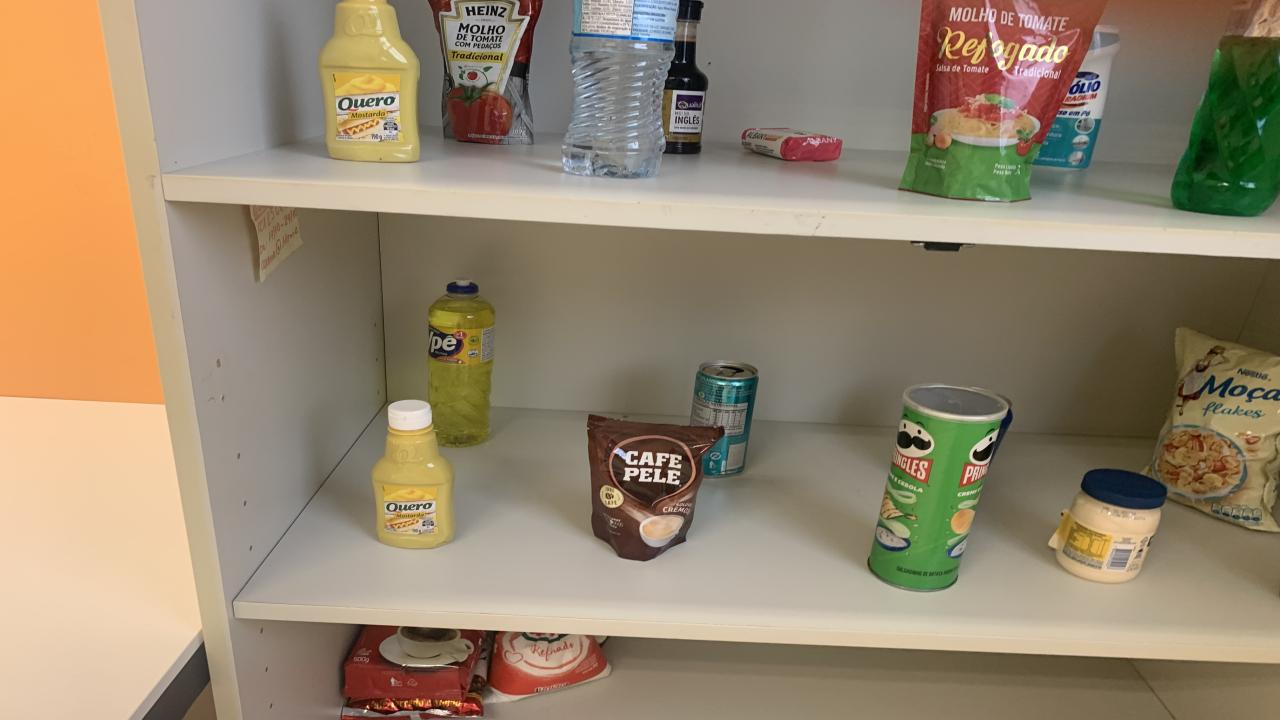Cleaner-Cleanup_Items: (1035, 26, 1120, 169)
Coffee-Pantry_Items: (588, 416, 722, 561)
Detergent-Cleanup_Items: (1170, 0, 1280, 216), (428, 281, 495, 446)
English_Sauce-Pantry_Items: (662, 0, 708, 154)
Flakes-Snacks: (1148, 328, 1280, 532)
Mayonnaise-Pantry_Items: (1050, 469, 1168, 583)
Mustard-Pantry_Items: (318, 0, 420, 161), (372, 399, 455, 548)
Pringles-Snacks: (868, 384, 1010, 591)
Soap-Cleanup_Items: (742, 128, 842, 161)
Tea-Drinks: (690, 362, 758, 476)
Tomato_Sauce-Pantry_Items: (900, 0, 1108, 202), (430, 0, 542, 144)
Water_Bottle-Drinks: (562, 0, 678, 178)
